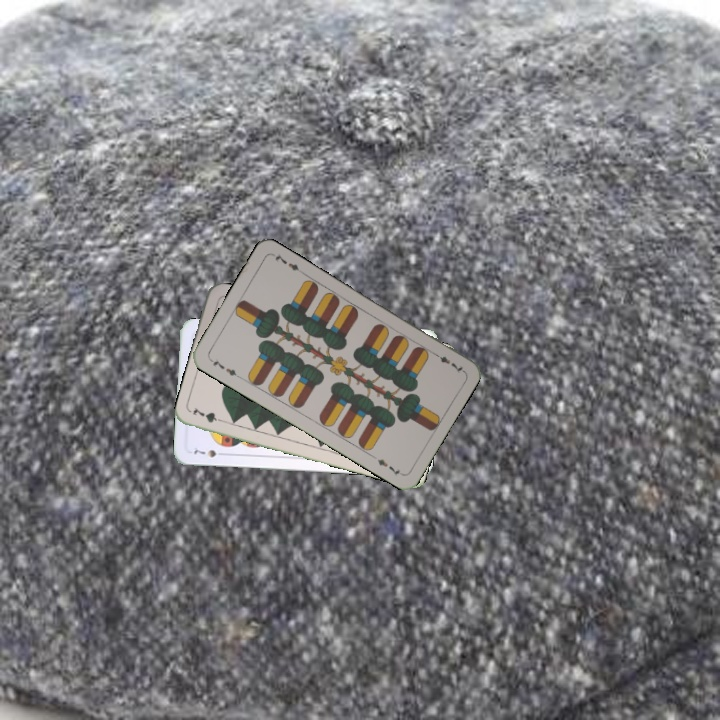E7: (429, 348, 466, 376), (206, 354, 243, 381)
G7: (189, 403, 229, 425)
S7: (190, 445, 228, 460)
